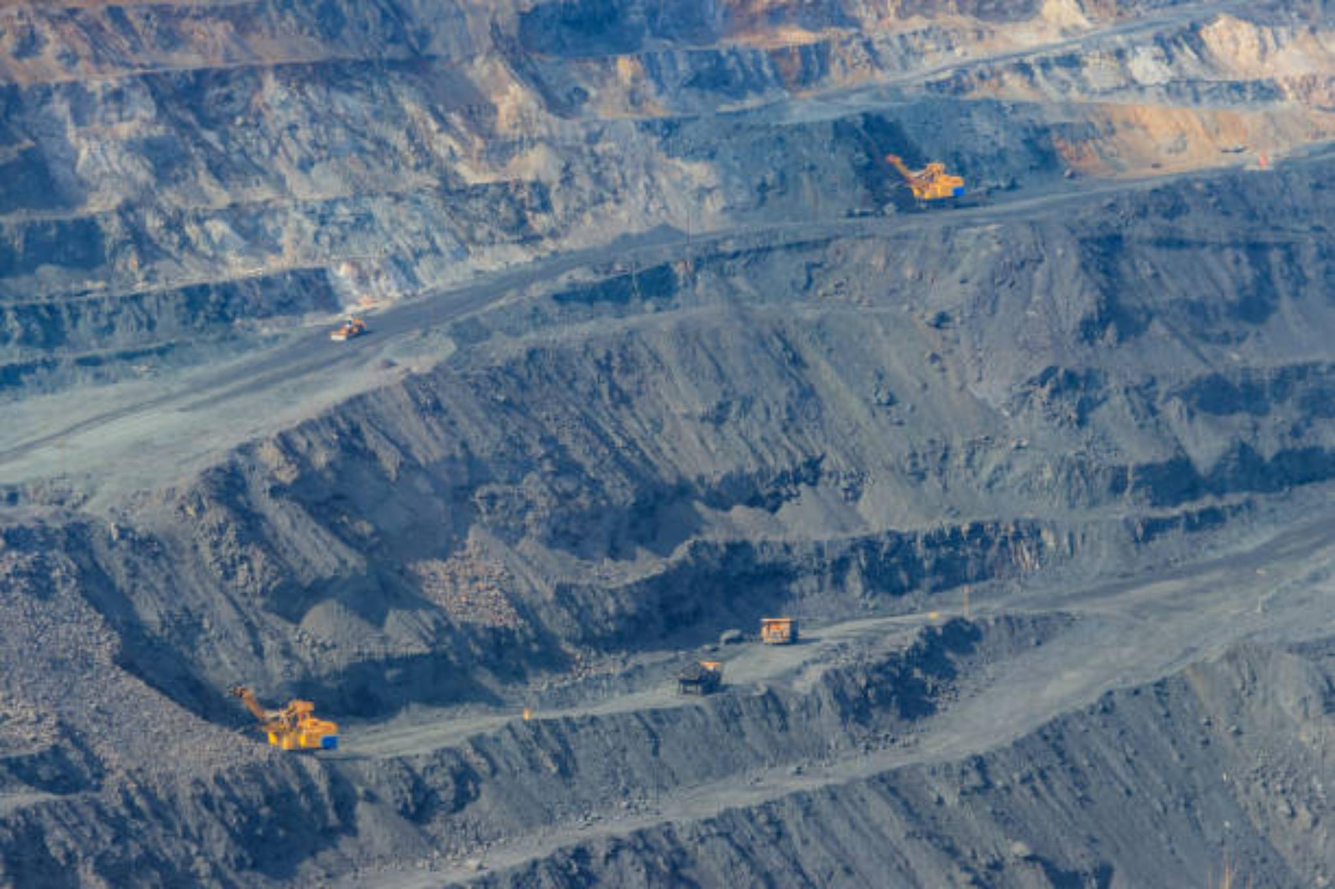excavator: (220, 676, 383, 771), (875, 155, 996, 206)
truck: (678, 654, 738, 703), (760, 610, 807, 650), (335, 303, 373, 349)
wall: (192, 157, 1333, 562)
